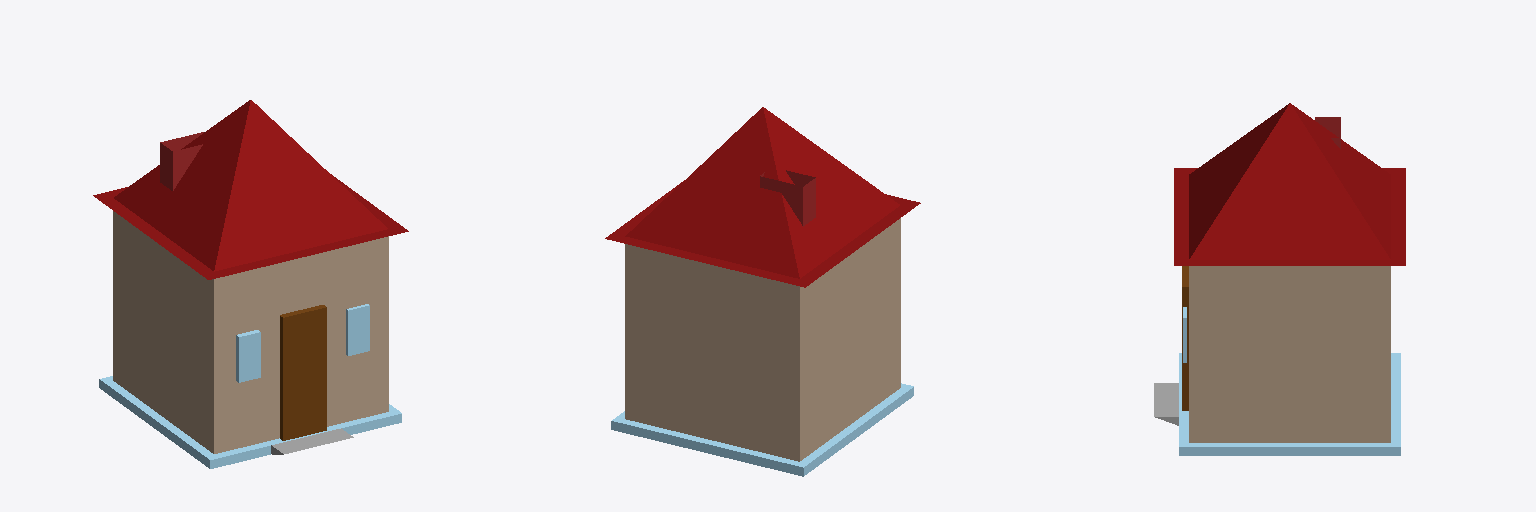
The model's file is house.obj.
The picture shows the model from 3 angles: view 1: azimuth 30°, elevation 25°; view 2: azimuth 150°, elevation 25°; view 3: azimuth 270°, elevation 25°; orthographic projection.
Size of the model in its own units: 4.6 by 6.7 by 5.